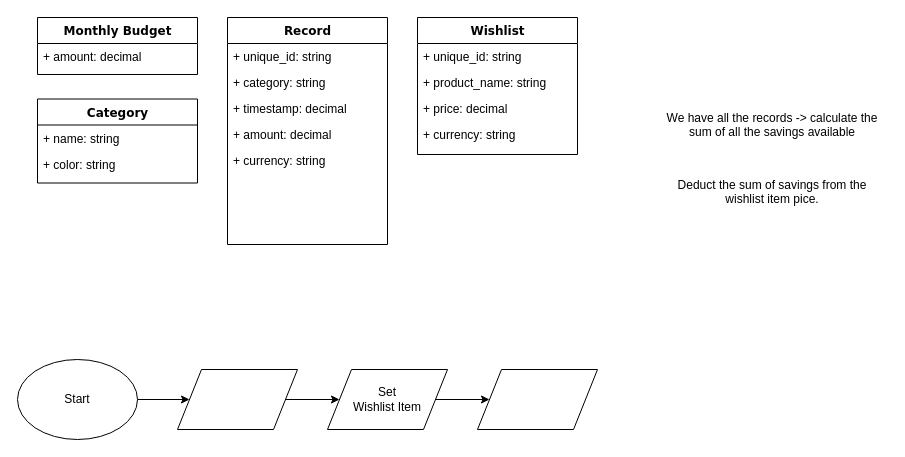
The diagram is 905 pixels wide and 457 high, and some of its shapes have lost their labels. Here are the shapes that lost their labels. From the top down, the centre of each, then its label:
At [237,399]: "Set Monthly Budget and Currency".
At [537,399]: "Record Spendings".
